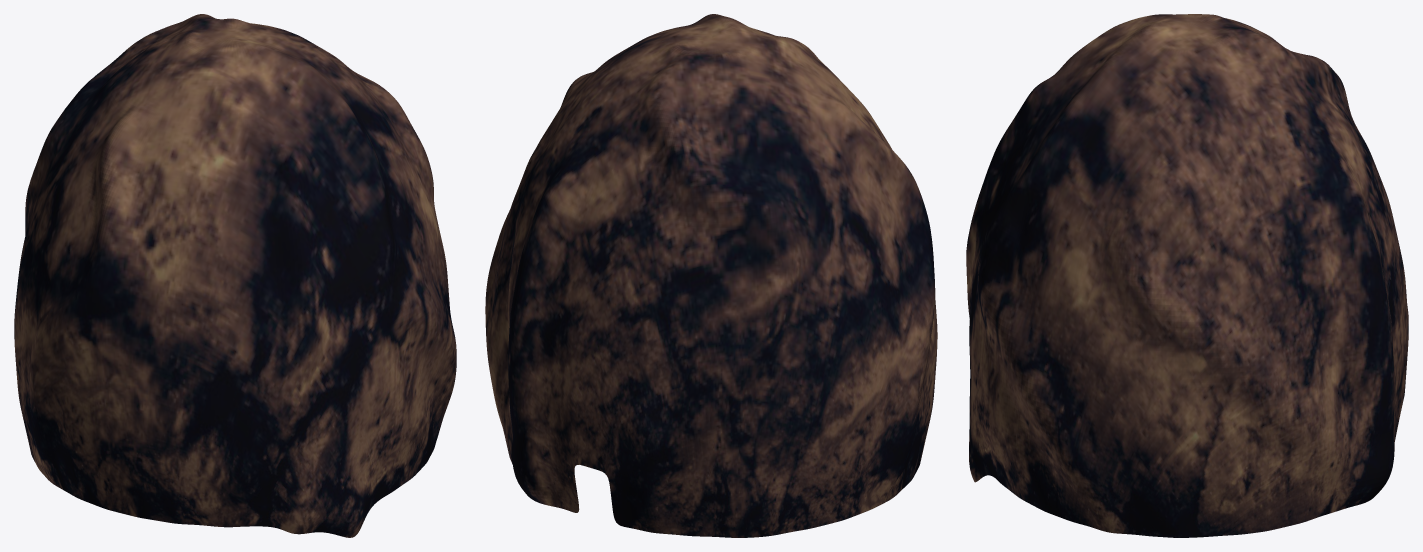
File: alien_flora_001.fbx
3 views of the same model, side by side, from view 1: azimuth 30°, elevation 25°; view 2: azimuth 150°, elevation 25°; view 3: azimuth 270°, elevation 25° (orthographic). The views are drawn at different scales.
Visible parts, largest first — view 1: Sphere; view 2: Sphere; view 3: Sphere.
Boxes of the visible parts, bbox=[...] form: Sphere: bbox=[14, 14, 456, 537]; Sphere: bbox=[485, 14, 937, 537]; Sphere: bbox=[966, 14, 1408, 537].
Size of the model in its own units: 212 by 224 by 201.
Materials: 1 (1 with a texture image).
